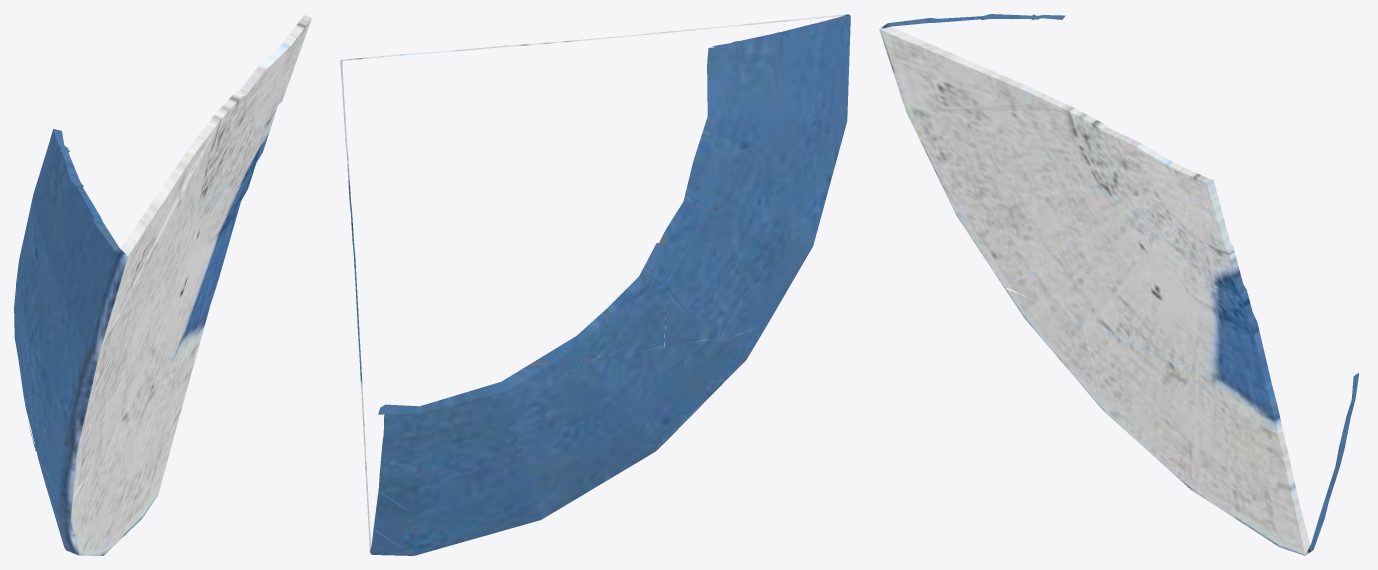
The model's file is congresso_tile_48.glb.
The picture shows the model from 3 angles, left to right: view 1: azimuth 30°, elevation 25°; view 2: azimuth 150°, elevation 25°; view 3: azimuth 270°, elevation 25°; orthographic projection. The views are drawn at different scales.
Size of the model in its own units: 25.3 by 32.3 by 31.98.
Materials: 1 (1 with a texture image).
